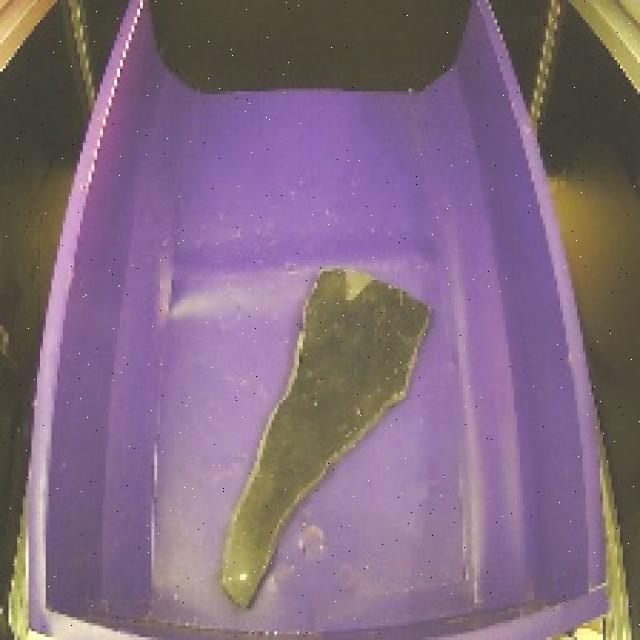china: (213, 259, 441, 618)
